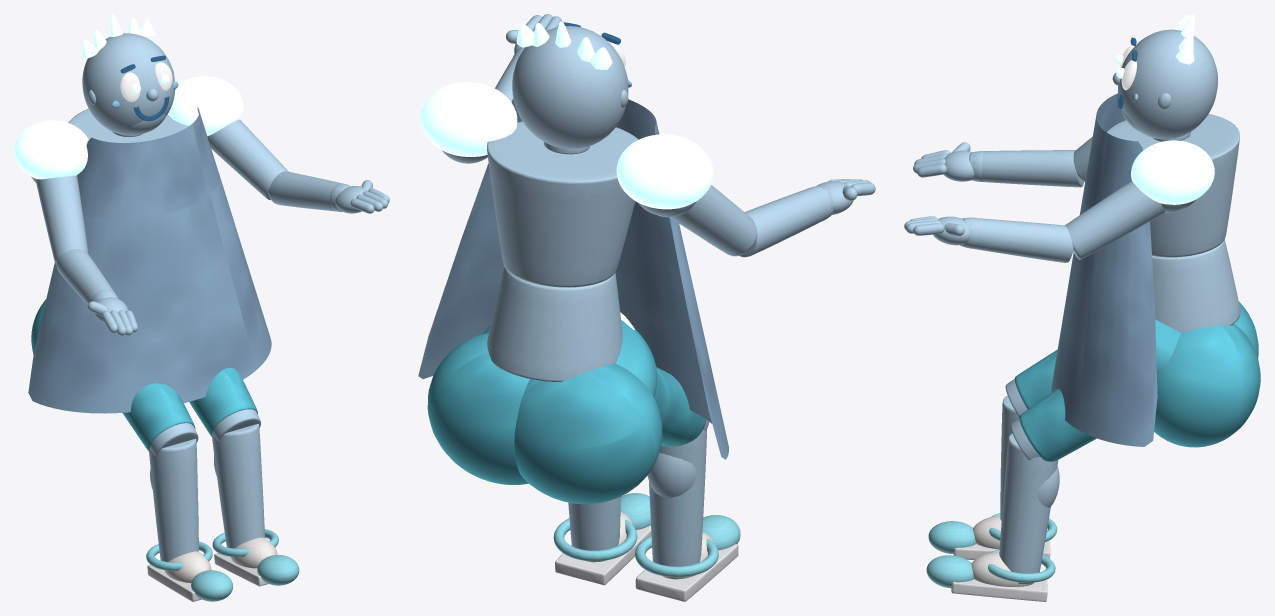
Rendered from character-diamond.glb.
3 views of the same model, side by side, from view 1: azimuth 30°, elevation 25°; view 2: azimuth 150°, elevation 25°; view 3: azimuth 270°, elevation 25° (orthographic). The views are drawn at different scales.
Parts seen in each view (by area): view 1: spine, head, kneeR, kneeL, elbowL, thighR, elbowR, shoulderR, thighL, shoulderL; view 2: spine, cheekR, head, kneeR, cheekL, kneeL, elbowR, shoulderR, thighR, pelvis, elbowL; view 3: spine, cheekL, kneeL, head, elbowR, elbowL, shoulderL, kneeR, thighL, thighR, pelvis, cheekR (+1 smaller).
Part boxes in pixels (x1,y1,x2,y2): spine: [14, 76, 271, 413]; head: [82, 14, 178, 135]; kneeR: [146, 439, 232, 601]; kneeL: [212, 424, 299, 586]; elbowL: [268, 171, 389, 213]; thighR: [122, 383, 198, 456]; elbowR: [56, 249, 137, 335]; shoulderR: [31, 175, 88, 264]; thighL: [189, 367, 260, 441]; shoulderL: [207, 119, 288, 199]; spine: [418, 82, 728, 459]; cheekR: [514, 363, 662, 504]; head: [512, 21, 631, 148]; kneeR: [635, 429, 740, 601]; cheekL: [427, 332, 529, 484]; kneeL: [553, 493, 651, 585]; elbowR: [739, 179, 875, 257]; shoulderR: [657, 185, 757, 256]; thighR: [654, 367, 709, 446]; pelvis: [483, 312, 657, 396]; elbowL: [495, 14, 565, 101]; spine: [1051, 93, 1240, 446]; cheekL: [1154, 324, 1260, 447]; kneeL: [926, 433, 1059, 601]; head: [1112, 14, 1217, 139]; elbowR: [913, 142, 1084, 187]; elbowL: [904, 216, 1073, 262]; shoulderL: [1065, 181, 1180, 259]; kneeR: [928, 395, 1057, 559]; thighL: [1010, 388, 1096, 461]; thighR: [1005, 349, 1057, 416]; pelvis: [1155, 319, 1180, 375]; cheekR: [1234, 301, 1258, 357].
Bounding box in the file's own units: 2.59 × 4.47 × 2.62.
15 materials, 13 textured.
